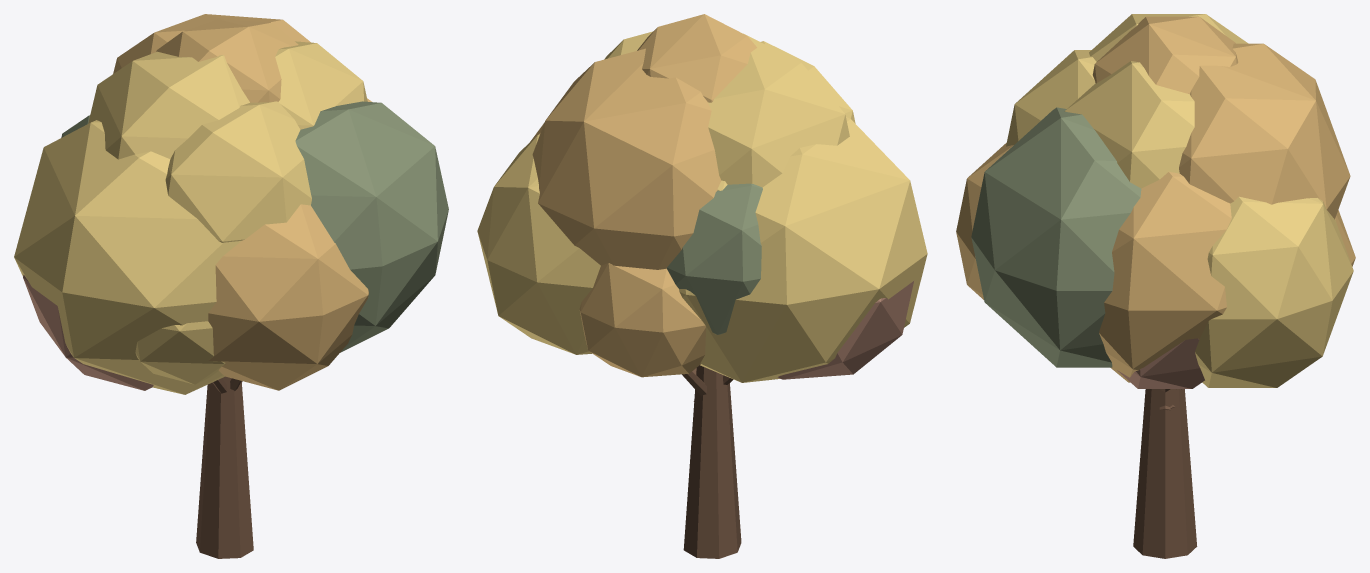
Rendered from tree_reference_oak_tall_01_optimized.fbx.
The picture shows the model from 3 angles, left to right: view 1: azimuth 30°, elevation 25°; view 2: azimuth 150°, elevation 25°; view 3: azimuth 270°, elevation 25°; orthographic projection.
Visible parts, largest first — view 1: tree_reference_oak_tall_01_01_valendia_img2_gold_leaf_001, tree_reference_oak_tall_01_04_valendia_img2_warm_leaf_001, tree_reference_oak_tall_01_02_valendia_img2_olive_shadow_001, tree_reference_oak_tall_01_00_valendia_dark_bark_001, tree_reference_oak_tall_01_03_valendia_img2_russet_shadow_00; view 2: tree_reference_oak_tall_01_01_valendia_img2_gold_leaf_001, tree_reference_oak_tall_01_04_valendia_img2_warm_leaf_001, tree_reference_oak_tall_01_02_valendia_img2_olive_shadow_001, tree_reference_oak_tall_01_00_valendia_dark_bark_001, tree_reference_oak_tall_01_03_valendia_img2_russet_shadow_00; view 3: tree_reference_oak_tall_01_04_valendia_img2_warm_leaf_001, tree_reference_oak_tall_01_01_valendia_img2_gold_leaf_001, tree_reference_oak_tall_01_02_valendia_img2_olive_shadow_001, tree_reference_oak_tall_01_00_valendia_dark_bark_001, tree_reference_oak_tall_01_03_valendia_img2_russet_shadow_00.
Boxes of the visible parts, x1,y1,x2,y2 form: tree_reference_oak_tall_01_01_valendia_img2_gold_leaf_001: [14, 41, 367, 394]; tree_reference_oak_tall_01_04_valendia_img2_warm_leaf_001: [113, 14, 371, 390]; tree_reference_oak_tall_01_02_valendia_img2_olive_shadow_001: [61, 101, 448, 352]; tree_reference_oak_tall_01_00_valendia_dark_bark_001: [196, 376, 253, 558]; tree_reference_oak_tall_01_03_valendia_img2_russet_shadow_00: [23, 275, 153, 390]; tree_reference_oak_tall_01_01_valendia_img2_gold_leaf_001: [477, 31, 927, 382]; tree_reference_oak_tall_01_04_valendia_img2_warm_leaf_001: [530, 14, 756, 377]; tree_reference_oak_tall_01_02_valendia_img2_olive_shadow_001: [666, 183, 762, 334]; tree_reference_oak_tall_01_00_valendia_dark_bark_001: [682, 365, 741, 558]; tree_reference_oak_tall_01_03_valendia_img2_russet_shadow_00: [777, 281, 913, 379]; tree_reference_oak_tall_01_04_valendia_img2_warm_leaf_001: [956, 16, 1355, 382]; tree_reference_oak_tall_01_01_valendia_img2_gold_leaf_001: [1006, 14, 1353, 387]; tree_reference_oak_tall_01_02_valendia_img2_olive_shadow_001: [971, 107, 1141, 367]; tree_reference_oak_tall_01_00_valendia_dark_bark_001: [1133, 389, 1197, 558]; tree_reference_oak_tall_01_03_valendia_img2_russet_shadow_00: [1117, 338, 1204, 388].
Bounding box in the file's own units: 466 × 622 × 425.
